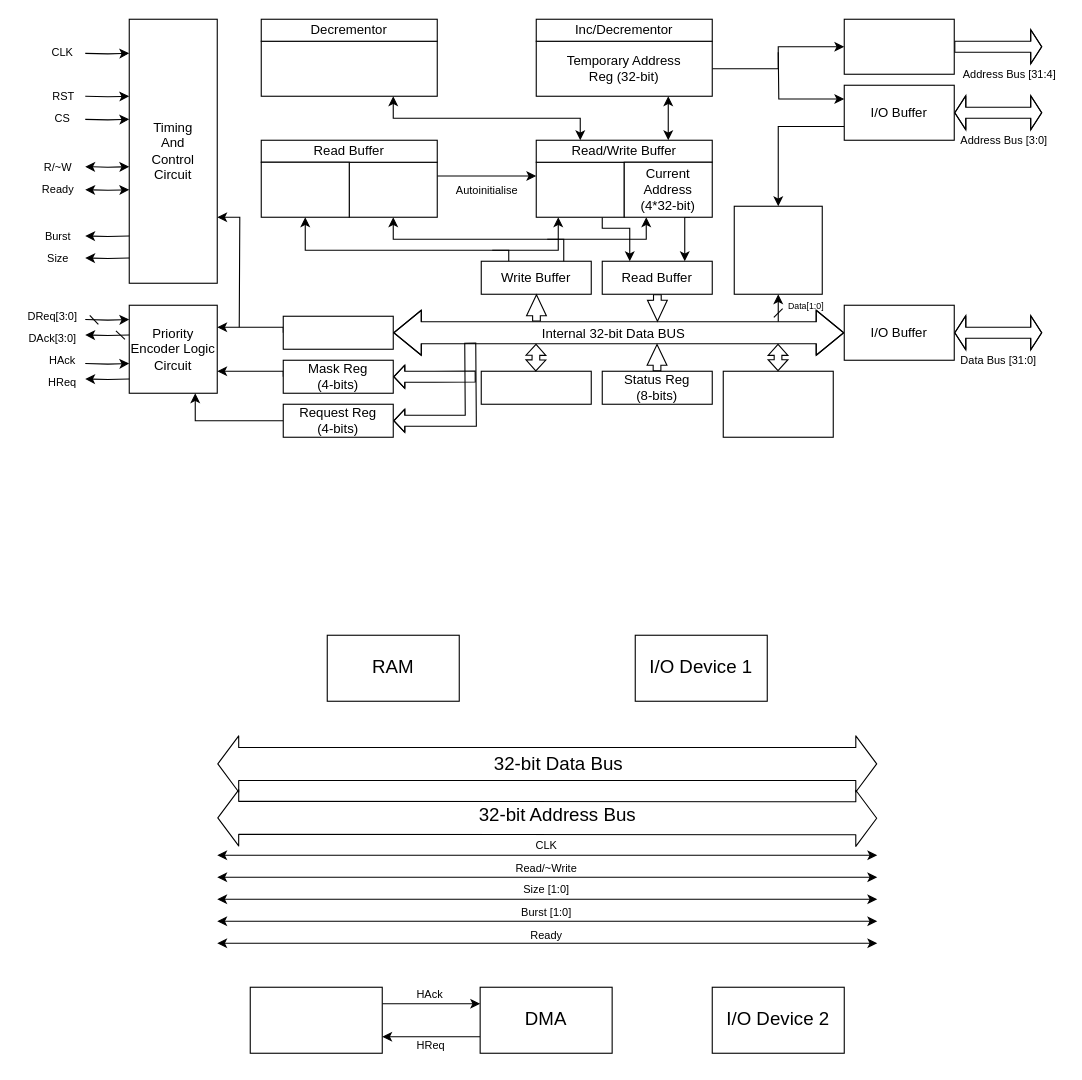
Image size: 1082x1080. Some labels were removed from this diagram. The shapes that lost their labels are listed below. From the top down, each one's centre as x and y in pixels, then its label:
pixel 898 46: Output Buffer
pixel 348 68: Temporary Word Count Reg (32-bit)
pixel 304 189: Base Word Count (4*32-bit)
pixel 392 189: Base Address (4*32-bit)
pixel 579 189: Current Word Count (4*32-bits)
pixel 777 249: Command Control Logic
pixel 337 332: Command Reg (14-bits)
pixel 535 387: Mode Reg (12-bits)
pixel 777 403: Temporary FIFO Buffer (8*32-bits)
pixel 315 1019: Processor
